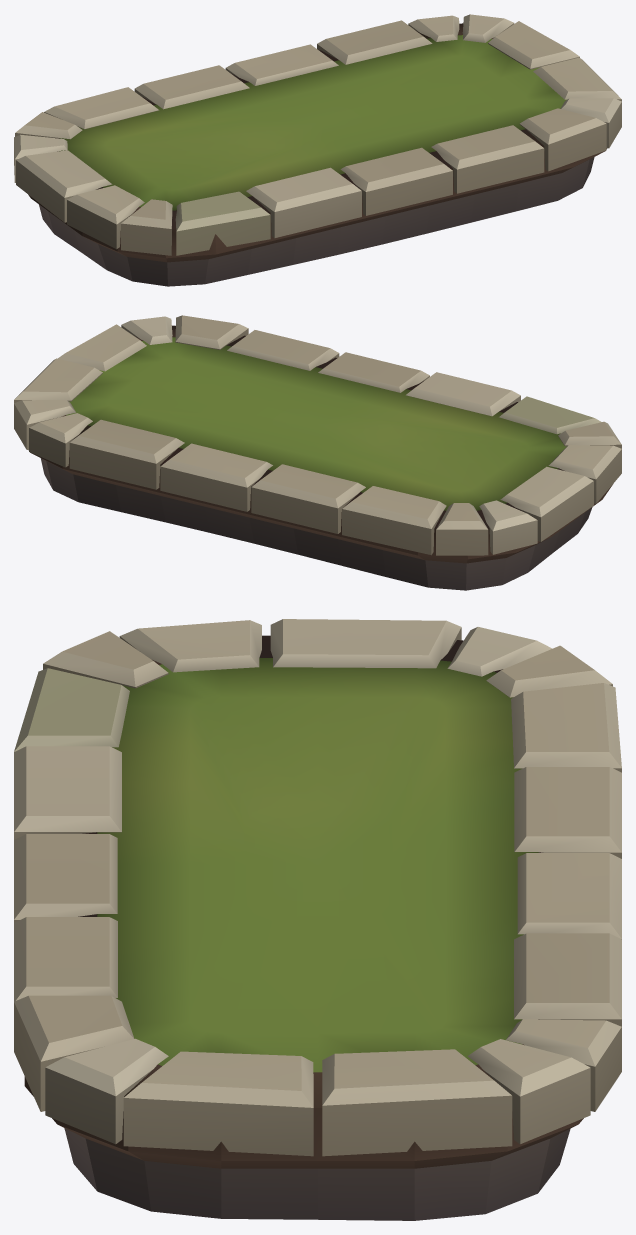
File: plateforme_pierre_M.glb
The picture shows the model from 3 angles, top to bottom: view 1: azimuth 30°, elevation 25°; view 2: azimuth 150°, elevation 25°; view 3: azimuth 270°, elevation 25°; orthographic projection. The views are drawn at different scales.
Parts seen in each view (by area): view 1: plateforme_pierre_M; view 2: plateforme_pierre_M; view 3: plateforme_pierre_M.
Boxes of the visible parts, x1=… form: plateforme_pierre_M: x1=14, y1=14, x2=621, y2=286; plateforme_pierre_M: x1=14, y1=315, x2=621, y2=590; plateforme_pierre_M: x1=14, y1=619, x2=621, y2=1220.
Size of the model in its own units: 4.68 by 1.11 by 2.48.
